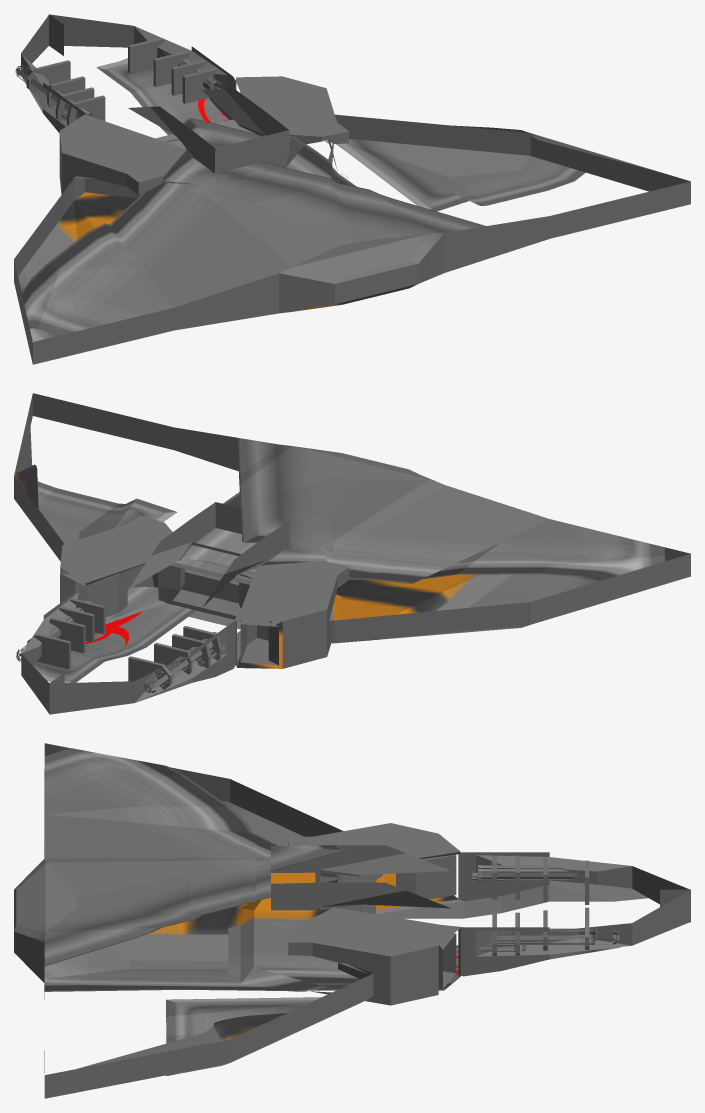
Rendered from stealth3.fbx.
The picture shows the model from 3 angles, top to bottom: view 1: azimuth 30°, elevation 25°; view 2: azimuth 150°, elevation 25°; view 3: azimuth 270°, elevation 25°; orthographic projection. The views are drawn at different scales.
Parts seen in each view (by area): view 1: stealthWing; view 2: stealthWing; view 3: stealthWing.
Boxes of the visible parts, x1,y1,x2,y2 form: stealthWing: (14,14,690,364); stealthWing: (14,393,690,714); stealthWing: (14,743,690,1098).
Size of the model in its own units: 672 by 95.17 by 579.
Materials: 1 (1 with a texture image).
